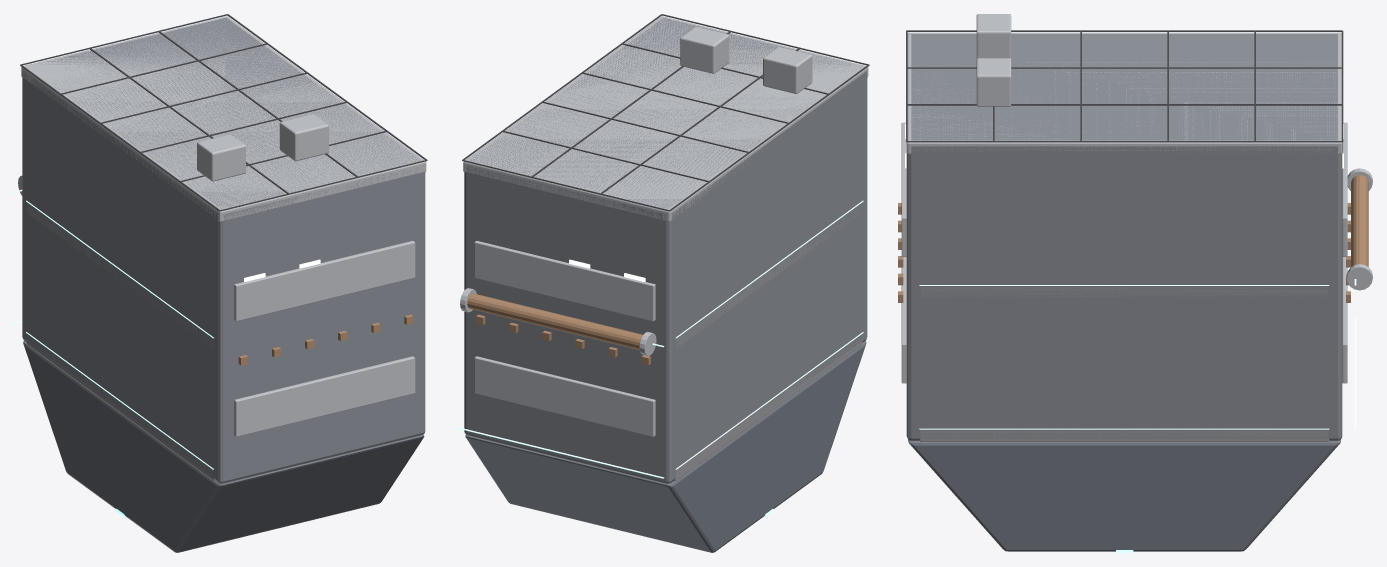
Rendered from ship_mid_5x3.glb.
3 views of the same model, side by side, from view 1: azimuth 30°, elevation 25°; view 2: azimuth 150°, elevation 25°; view 3: azimuth 270°, elevation 25° (orthographic). The views are drawn at different scales.
Parts seen in each view (by area): view 1: ext_hull, ext_deck_top, ext_hull_belly, ext_armor_plates, ext_deck_grid, ext_deck_vents, int_deck_lower, int_deck_upper, ext_rivets; view 2: ext_hull, ext_deck_top, ext_hull_belly, ext_armor_plates, ext_deck_grid, ext_deck_vents, ext_hull_pipe, int_deck_lower, int_deck_upper, int_grid_14, ext_rivets; view 3: ext_hull, ext_hull_belly, ext_deck_top, int_deck_lower, ext_deck_grid, ext_deck_vents, int_deck_upper, ext_armor_plates, ext_hull_pipe, int_grid_14, ext_rivets.
Part boxes in pixels (x1=…): ext_hull: x1=22, y1=17, x2=425, y2=483; ext_deck_top: x1=21, y1=16, x2=426, y2=222; ext_hull_belly: x1=23, y1=341, x2=424, y2=552; ext_armor_plates: x1=234, y1=240, x2=415, y2=436; ext_deck_grid: x1=20, y1=14, x2=427, y2=211; ext_deck_vents: x1=197, y1=114, x2=328, y2=181; int_deck_lower: x1=27, y1=334, x2=215, y2=481; int_deck_upper: x1=27, y1=203, x2=213, y2=348; ext_rivets: x1=238, y1=314, x2=413, y2=365; ext_hull: x1=464, y1=17, x2=867, y2=483; ext_deck_top: x1=463, y1=16, x2=868, y2=222; ext_hull_belly: x1=465, y1=341, x2=866, y2=552; ext_armor_plates: x1=474, y1=241, x2=655, y2=436; ext_deck_grid: x1=462, y1=14, x2=869, y2=211; ext_deck_vents: x1=680, y1=26, x2=812, y2=93; ext_hull_pipe: x1=467, y1=293, x2=642, y2=349; int_deck_lower: x1=674, y1=340, x2=862, y2=481; int_deck_upper: x1=676, y1=208, x2=858, y2=348; int_grid_14: x1=456, y1=332, x2=863, y2=478; ext_rivets: x1=476, y1=314, x2=650, y2=365; ext_hull: x1=906, y1=34, x2=1342, y2=440; ext_hull_belly: x1=908, y1=440, x2=1340, y2=551; ext_deck_top: x1=906, y1=32, x2=1342, y2=154; int_deck_lower: x1=920, y1=430, x2=1329, y2=441; ext_deck_grid: x1=906, y1=30, x2=1343, y2=142; ext_deck_vents: x1=976, y1=14, x2=1011, y2=106; int_deck_upper: x1=920, y1=287, x2=1328, y2=297; ext_armor_plates: x1=901, y1=122, x2=1347, y2=383; ext_hull_pipe: x1=1351, y1=175, x2=1368, y2=266; int_grid_14: x1=919, y1=318, x2=1356, y2=429; ext_rivets: x1=898, y1=203, x2=1350, y2=302.
Size of the model in its own units: 3.02 by 5.6 by 5.45.
